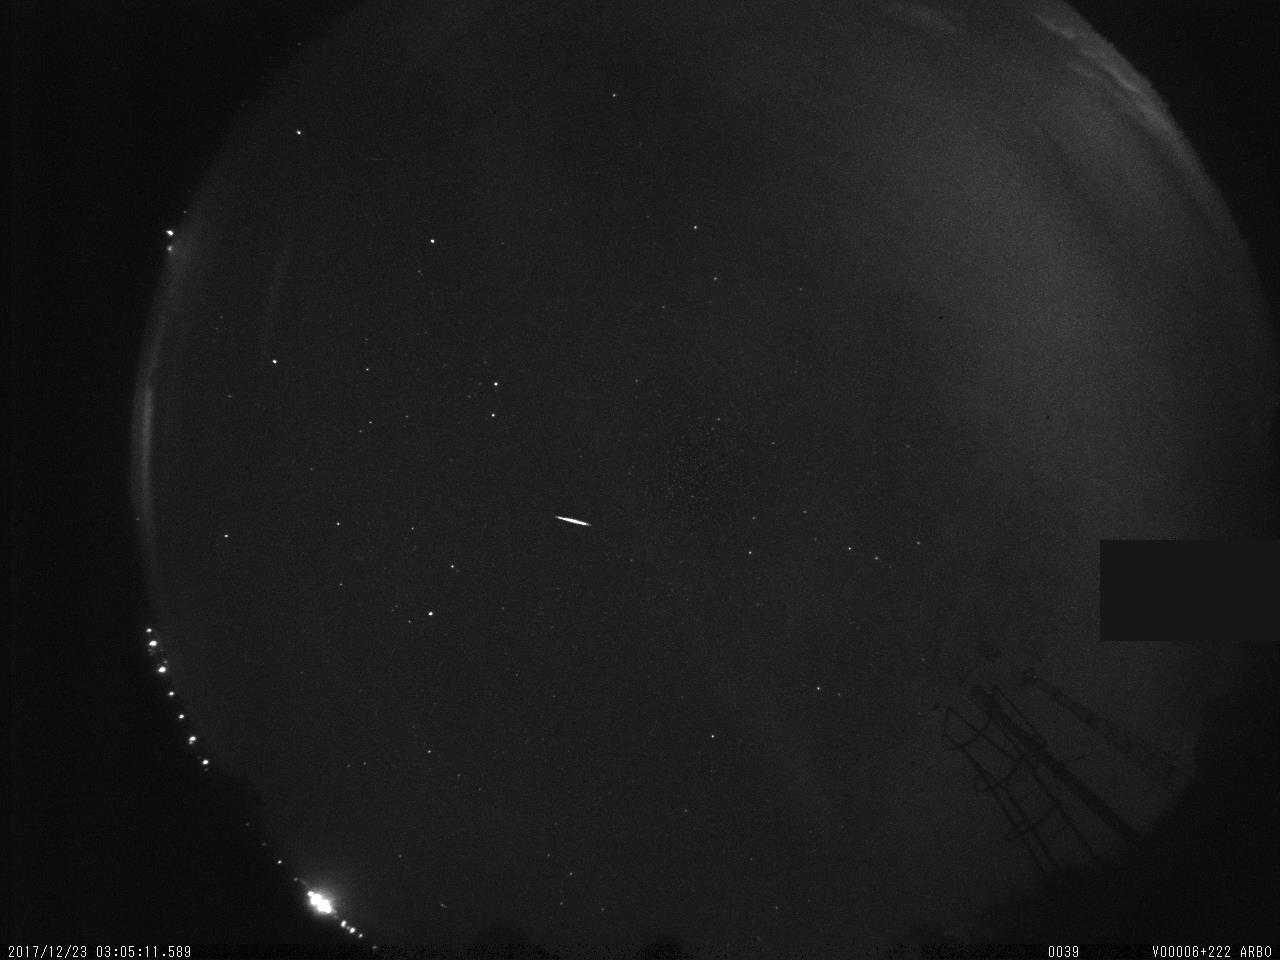meteor: (548, 504, 606, 545)
